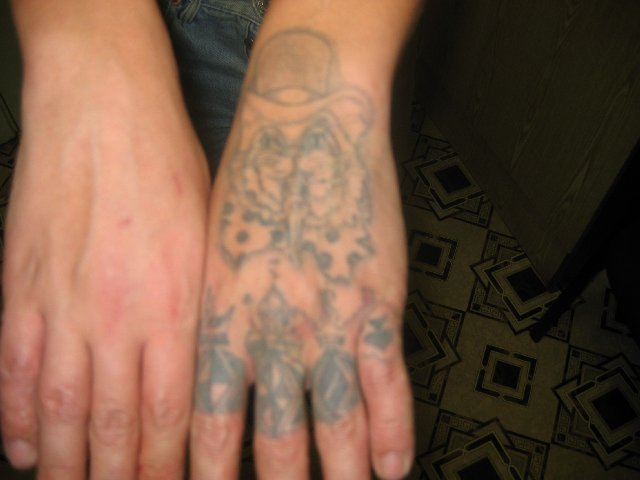tatu8_kot: (203, 11, 398, 278)
